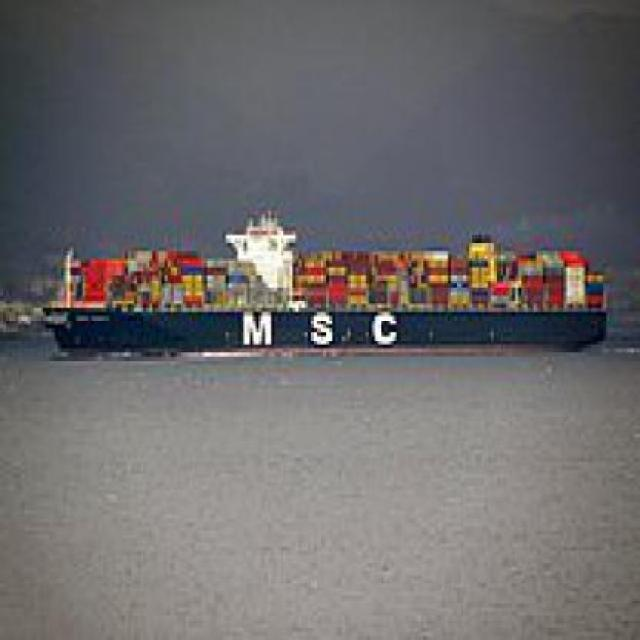container: (37, 208, 614, 362)
